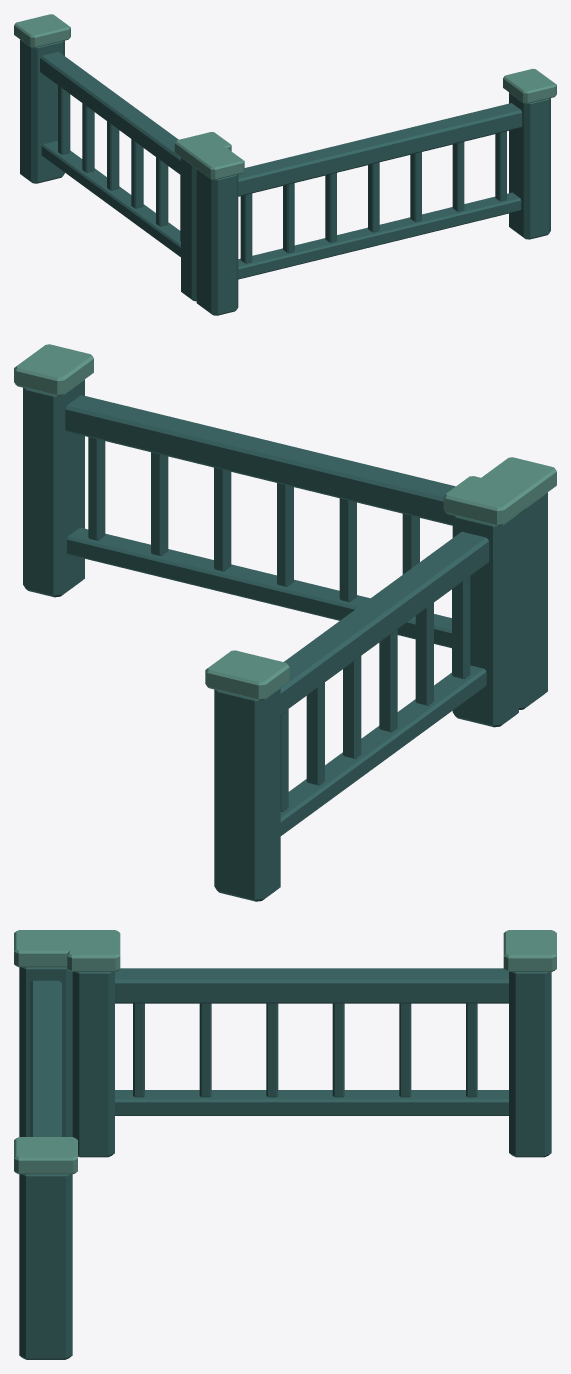
The model's file is railing-corner.glb.
3 views of the same model, one above another, from view 1: azimuth 30°, elevation 25°; view 2: azimuth 150°, elevation 25°; view 3: azimuth 270°, elevation 25° (orthographic). The views are drawn at different scales.
Visible parts, largest first — view 1: railing-corner__body; view 2: railing-corner__body; view 3: railing-corner__body.
Boxes of the visible parts, x1,y1,x2,y2 form: railing-corner__body: (14, 14, 556, 315); railing-corner__body: (14, 344, 556, 901); railing-corner__body: (14, 930, 556, 1359).
Size of the model in its own units: 2.04 by 0.85 by 2.04.
